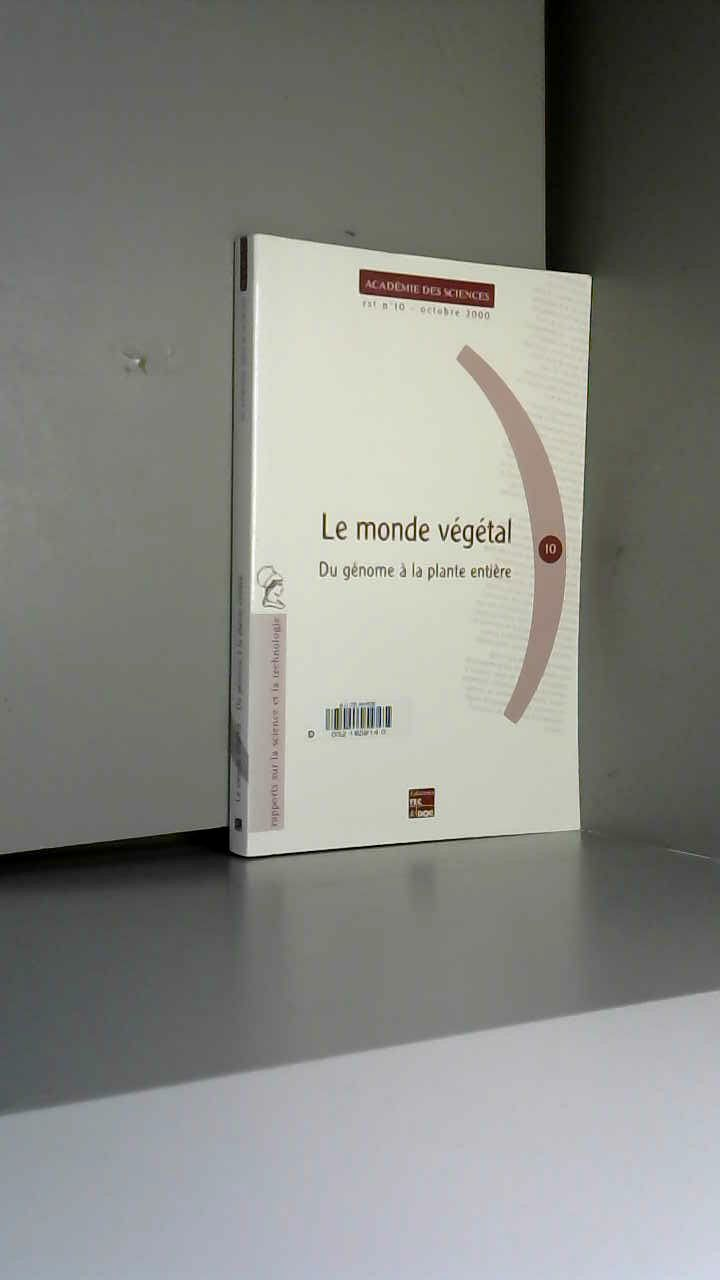book: (220, 210, 719, 878)
